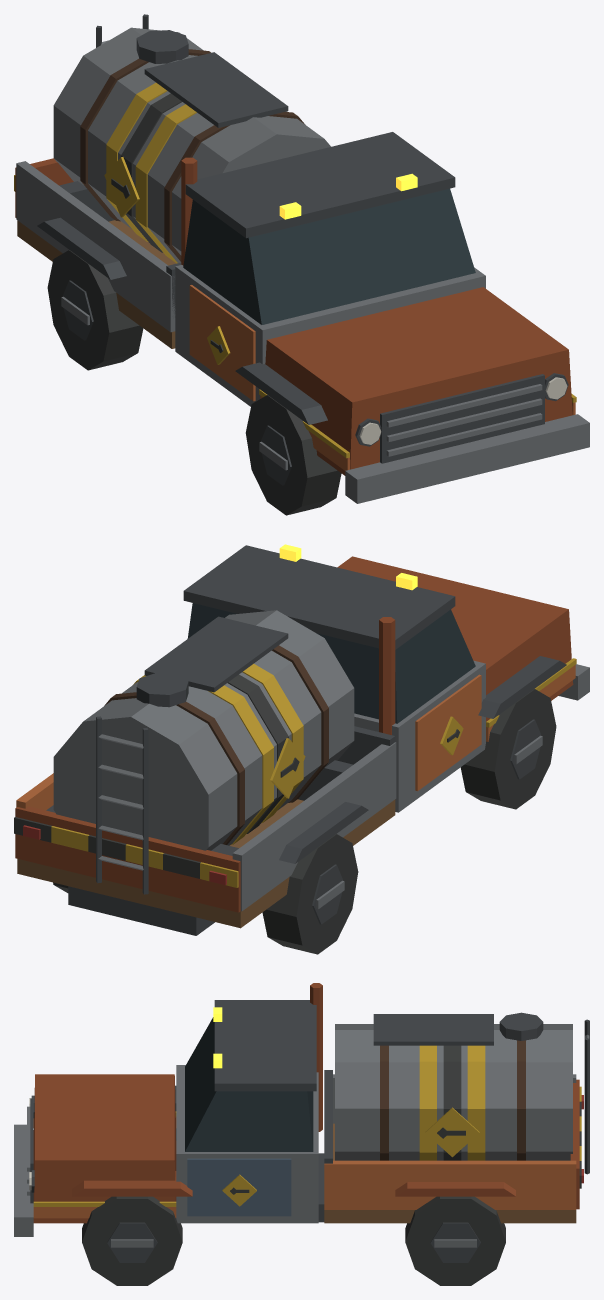
File: long_haul_tanker.glb
The picture shows the model from 3 angles, top to bottom: view 1: azimuth 30°, elevation 25°; view 2: azimuth 150°, elevation 25°; view 3: azimuth 270°, elevation 25°; orthographic projection. The views are drawn at different scales.
Parts seen in each view (by area): view 1: body, wheel_rr, wheel_fr; view 2: body, wheel_rr, wheel_fr; view 3: body, wheel_rl, wheel_fl.
Boxes of the visible parts, x1,y1,x2,y2 form: body: (14,14,589,503); wheel_rr: (47,250,143,370); wheel_fr: (245,395,341,515); body: (14,544,589,935); wheel_rr: (262,834,358,954); wheel_fr: (460,689,556,809); body: (14,983,589,1236); wheel_rl: (405,1196,505,1285); wheel_fl: (82,1196,182,1285).
Size of the model in its own units: 2.22 by 2.16 by 5.26.
